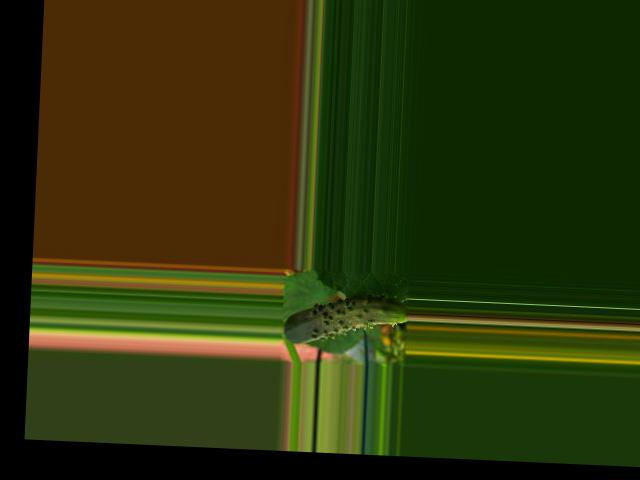cucumber: (282, 290, 407, 347)
